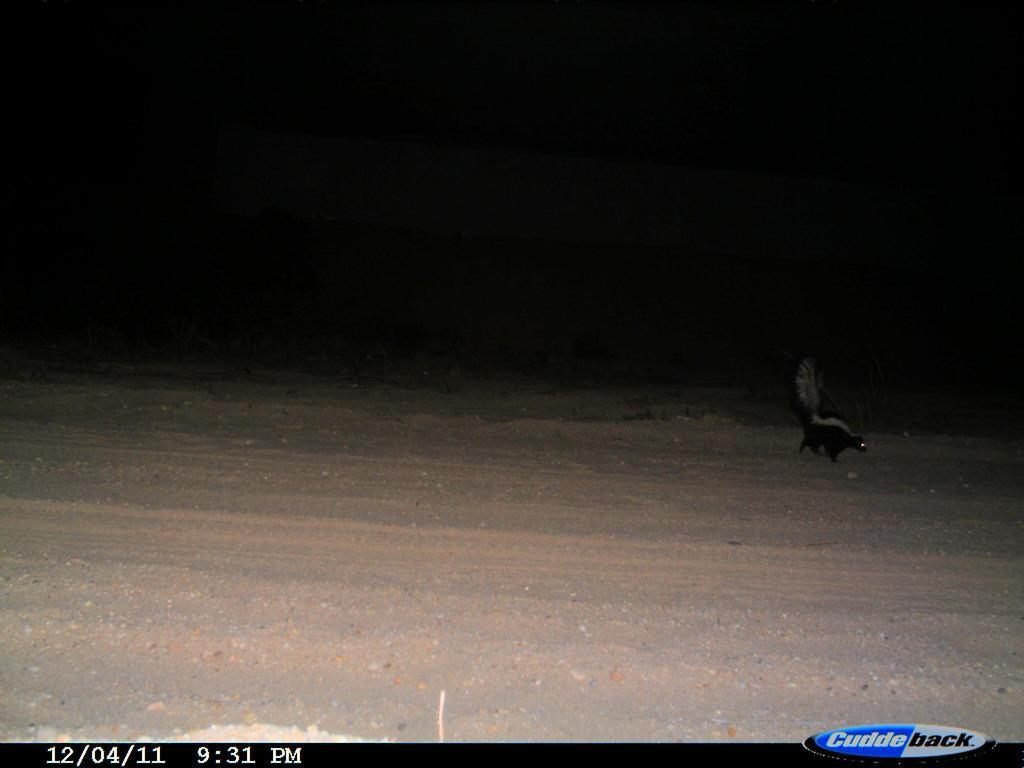skunk: (788, 358, 873, 466)
